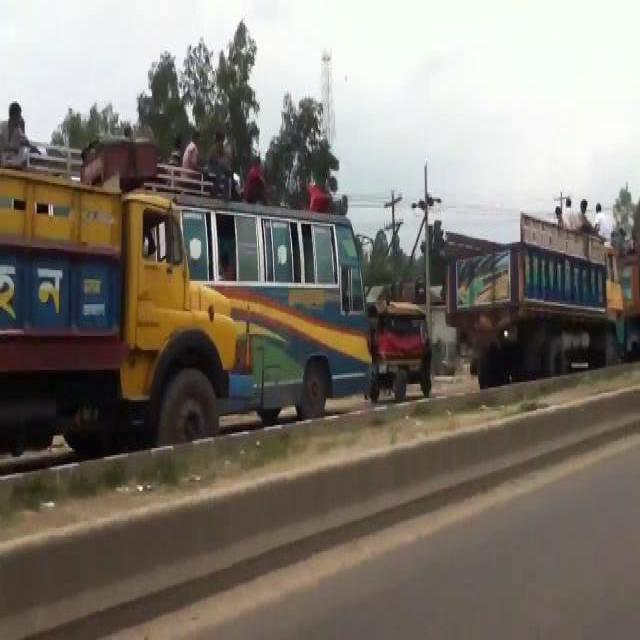bus: (220, 193, 378, 419)
truck: (0, 125, 258, 465), (433, 203, 627, 391)
